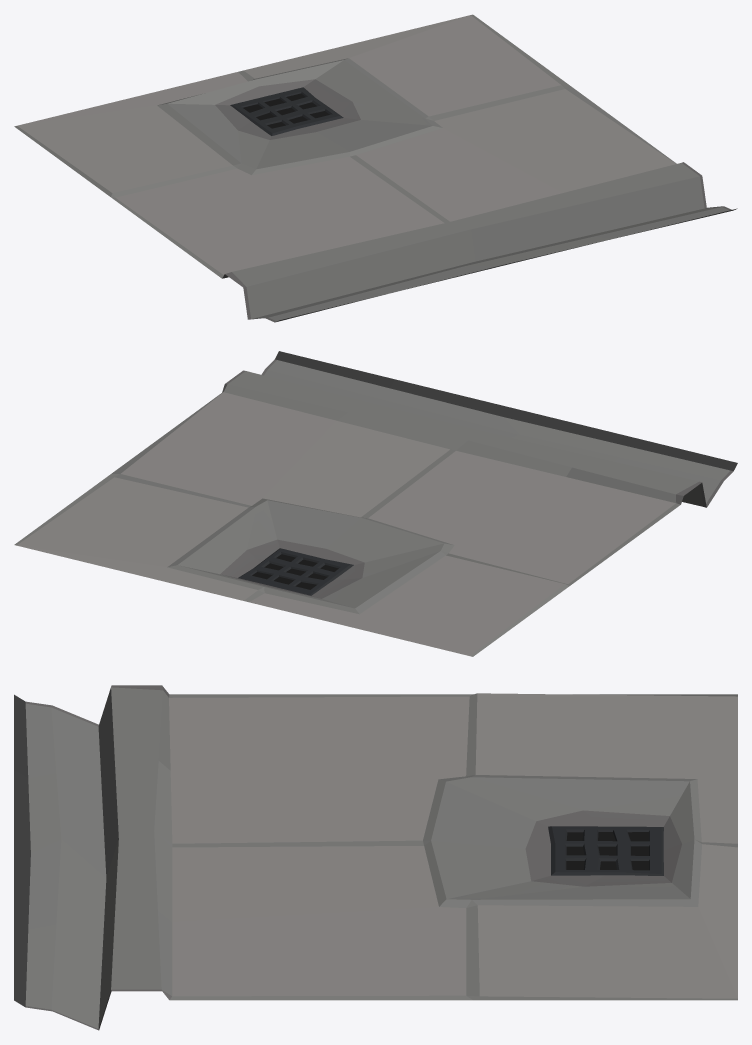
File: SM_Env_Sidewalk_Grate_01.fbx
3 renders of one model, top to bottom at view 1: azimuth 30°, elevation 25°; view 2: azimuth 150°, elevation 25°; view 3: azimuth 270°, elevation 25°, orthographic. The views are drawn at different scales.
Parts seen in each view (by area): view 1: SM_Env_Sidewalk_Grate_01; view 2: SM_Env_Sidewalk_Grate_01; view 3: SM_Env_Sidewalk_Grate_01.
Part boxes in pixels (<box>): SM_Env_Sidewalk_Grate_01: <box>14,14,737,322</box>; SM_Env_Sidewalk_Grate_01: <box>14,351,737,656</box>; SM_Env_Sidewalk_Grate_01: <box>14,685,737,1030</box>.
Size of the model in its own units: 500 by 30 by 500.
